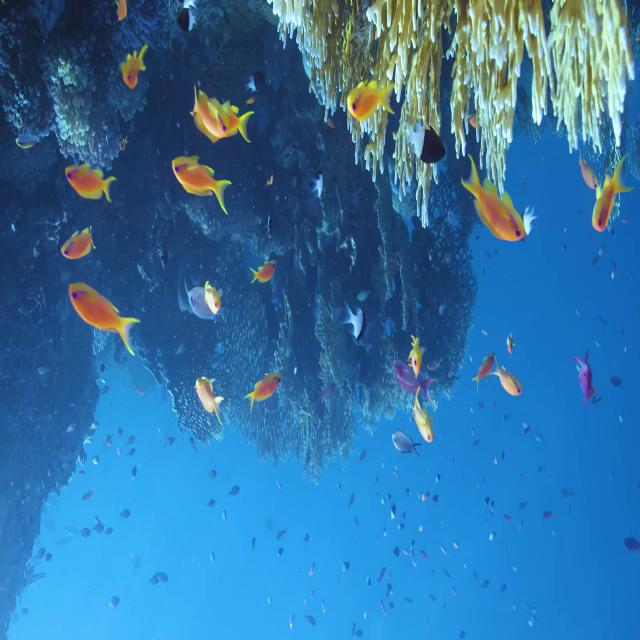fish: (69, 286, 137, 356), (467, 165, 524, 241), (172, 157, 228, 210), (592, 157, 630, 230), (187, 88, 241, 137), (62, 159, 118, 202), (344, 78, 396, 120), (403, 117, 449, 163), (244, 368, 284, 409), (187, 288, 227, 328), (195, 376, 227, 424), (490, 359, 522, 399), (412, 391, 432, 446), (249, 257, 279, 288)
